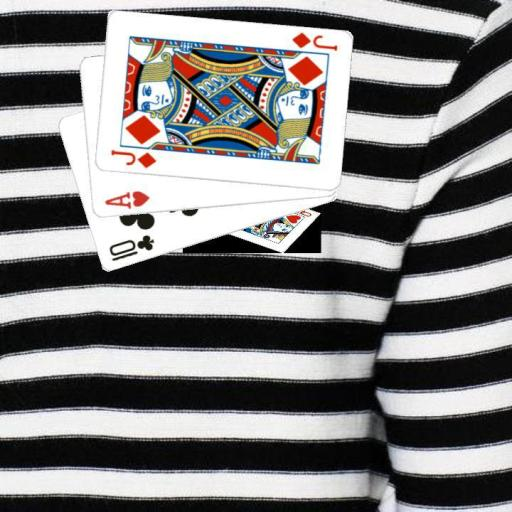10C: (105, 232, 156, 263)
AH: (102, 188, 151, 211)
JD: (107, 146, 158, 170), (288, 29, 338, 53)
